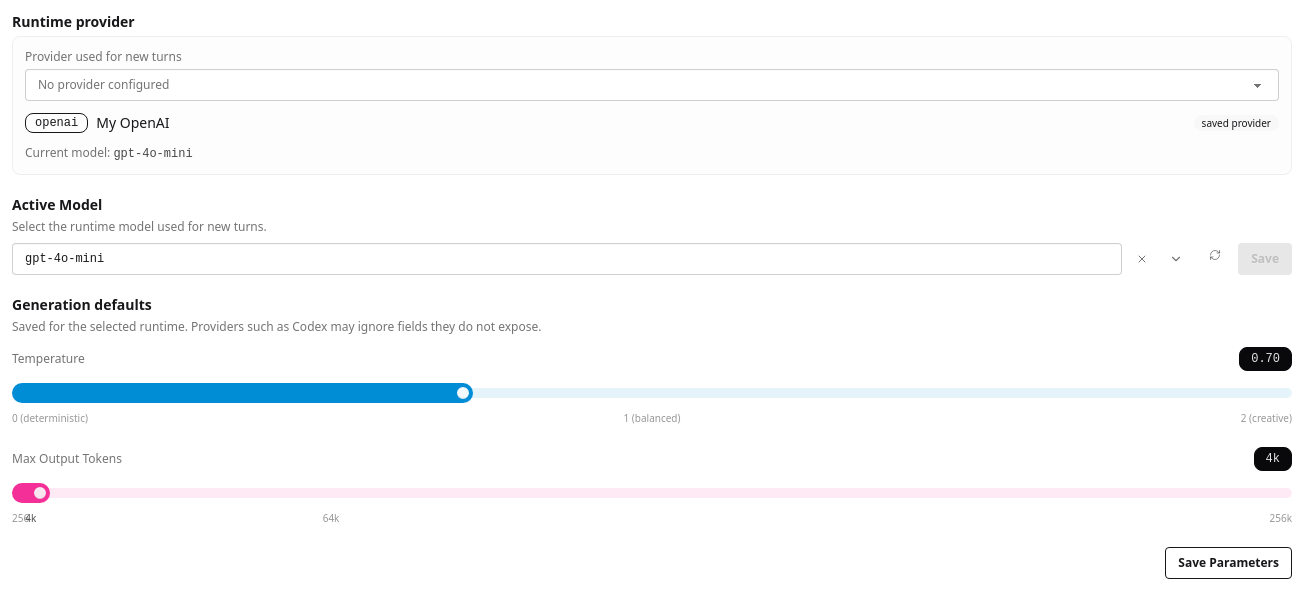
Scenario: ModelSettingsSection › populates model dropdown from GET /api/llm/active/models
This screenshot has width=1304, height=596.
Step 1. Click the dropdown with test id "model-selector" → (567, 259), box [12, 243, 1122, 275]
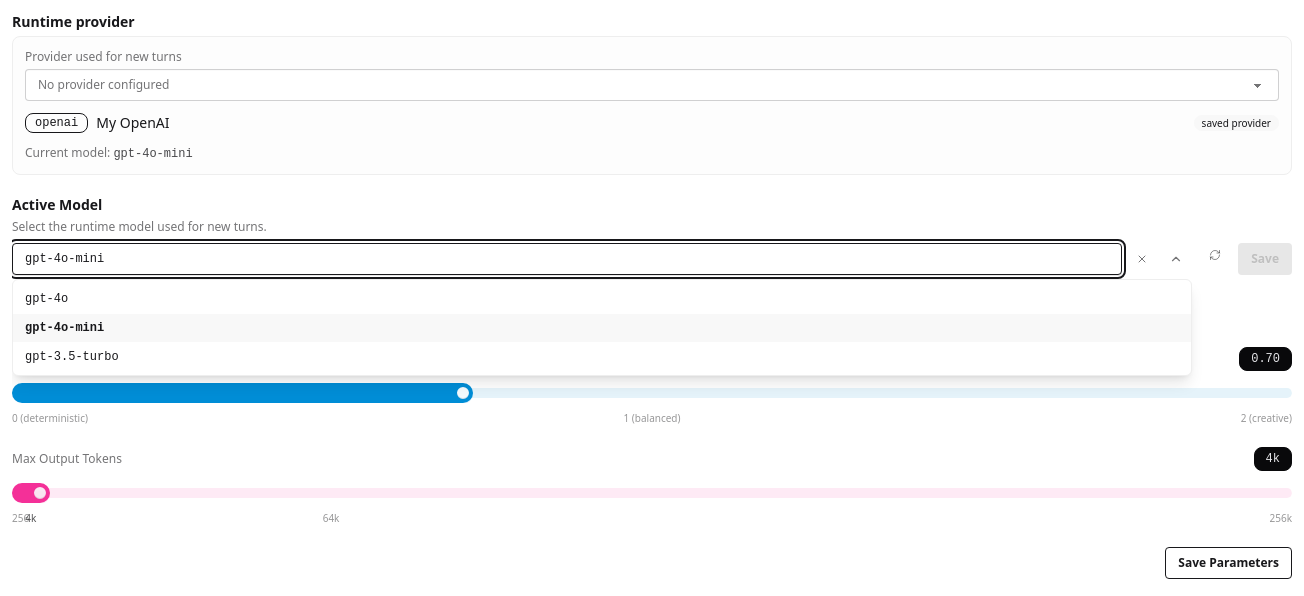
Expected: the text "gpt-4o-mini" is shown, [113, 147, 193, 161]
Expected: the button "gpt-3.5-turbo" is shown, [13, 343, 1191, 371]
